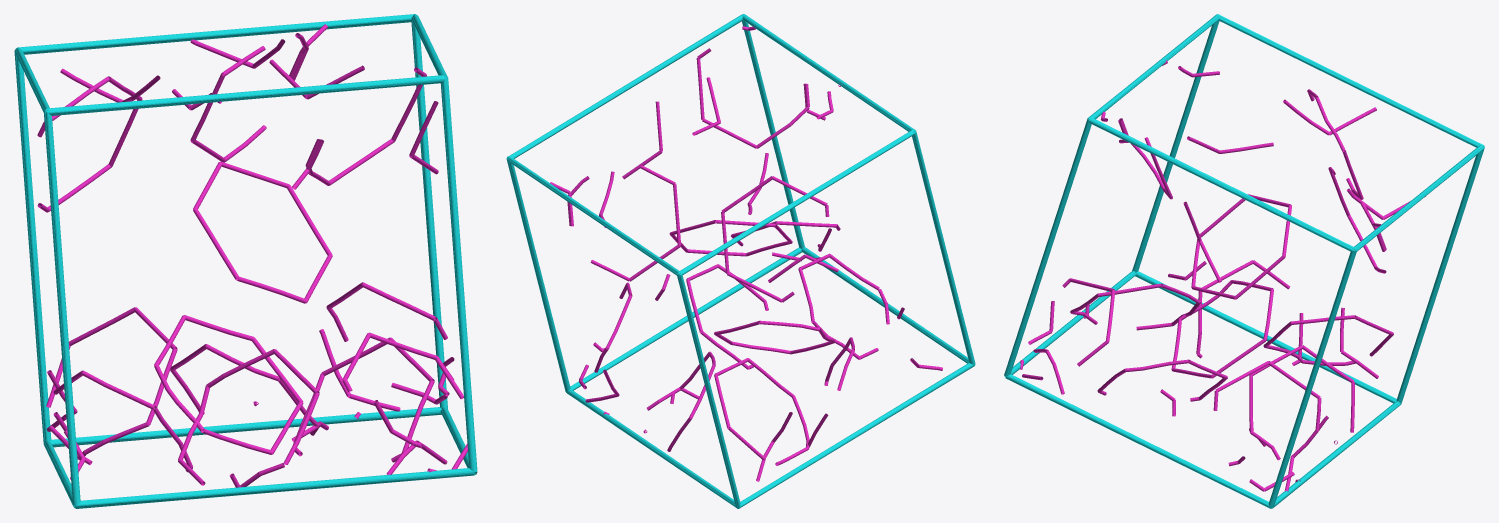
The model's file is dislocation100.glb.
The picture shows the model from 3 angles, left to right: view 1: azimuth 30°, elevation 25°; view 2: azimuth 150°, elevation 25°; view 3: azimuth 270°, elevation 25°; orthographic projection. The views are drawn at different scales.
Parts seen in each view (by area): view 1: Shape_IndexedLineSet, Shape_IndexedLineSet.001; view 2: Shape_IndexedLineSet, Shape_IndexedLineSet.001; view 3: Shape_IndexedLineSet, Shape_IndexedLineSet.001.
Boxes of the visible parts, box(x1,y1,x2,y2) form: Shape_IndexedLineSet: box(14, 14, 477, 508); Shape_IndexedLineSet.001: box(37, 24, 467, 487); Shape_IndexedLineSet: box(506, 14, 975, 508); Shape_IndexedLineSet.001: box(550, 26, 942, 481); Shape_IndexedLineSet: box(1004, 14, 1484, 508); Shape_IndexedLineSet.001: box(1020, 60, 1425, 491).
Bounding box in the file's own units: 1.41 × 1.31 × 1.58.
